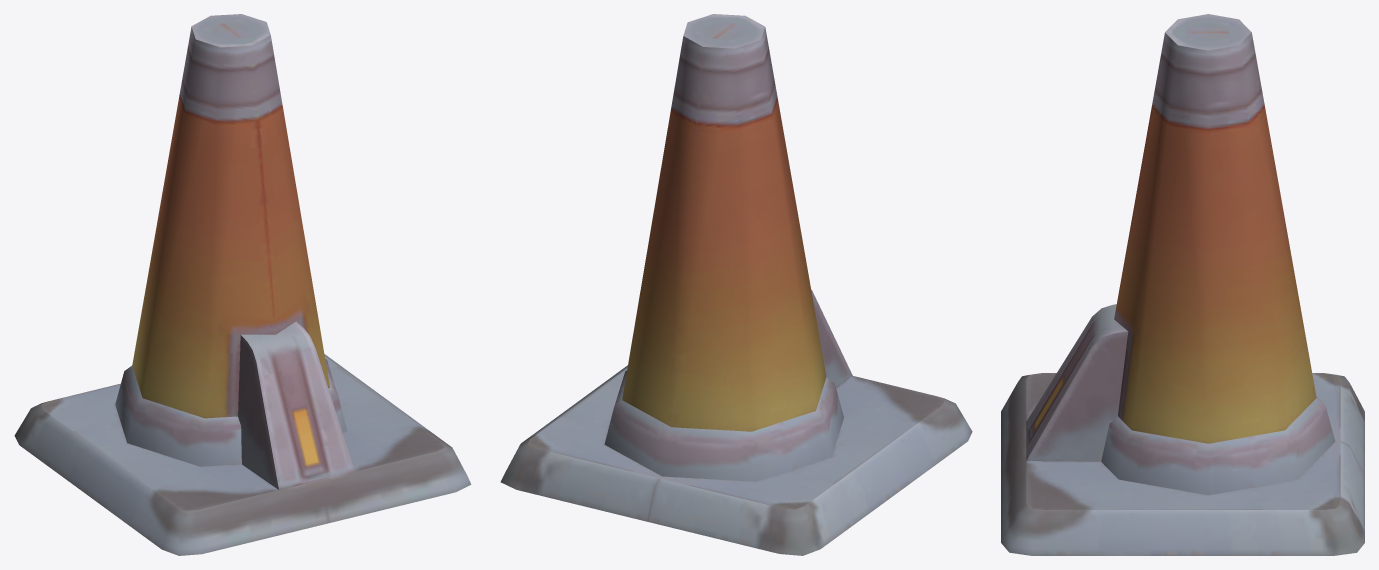
The model's file is pref_sm_city_roadblock02_snow_lv3.fbx.
3 views of the same model, side by side, from view 1: azimuth 30°, elevation 25°; view 2: azimuth 150°, elevation 25°; view 3: azimuth 270°, elevation 25° (orthographic). The views are drawn at different scales.
Parts seen in each view (by area): view 1: sm_city_roadblock02_snow_lv3; view 2: sm_city_roadblock02_snow_lv3; view 3: sm_city_roadblock02_snow_lv3.
Part boxes in pixels (box(x1,y1,x2,y2)): sm_city_roadblock02_snow_lv3: box(14, 14, 471, 555); sm_city_roadblock02_snow_lv3: box(500, 14, 972, 555); sm_city_roadblock02_snow_lv3: box(1001, 14, 1364, 555).
Bounding box in the file's own units: 1.27 × 1.67 × 1.24.
